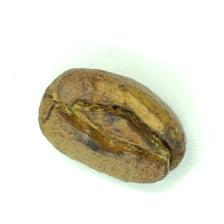NG: (59, 71, 173, 161)
